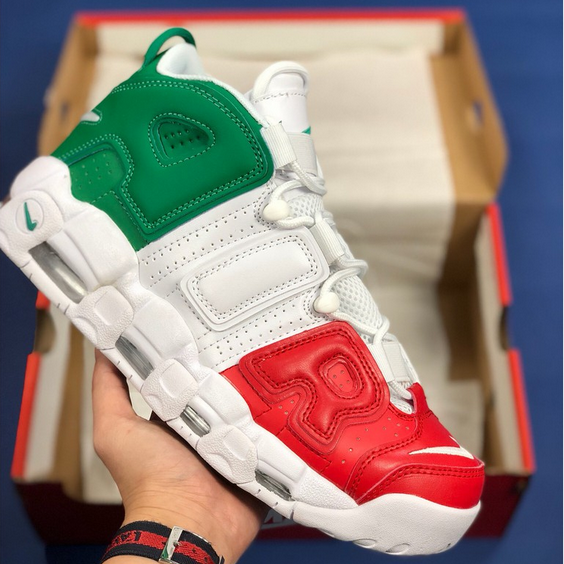Nike Air Uptempo '96 Italy: (6, 20, 511, 563)
